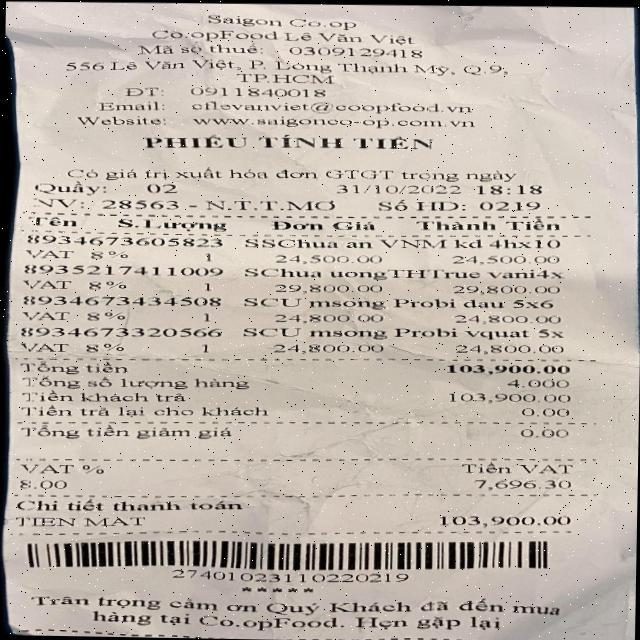Date: (315, 179, 470, 198)
Store_Name: (185, 7, 412, 33)
amount_number: (433, 361, 576, 376)
label_total: (14, 358, 135, 376)
